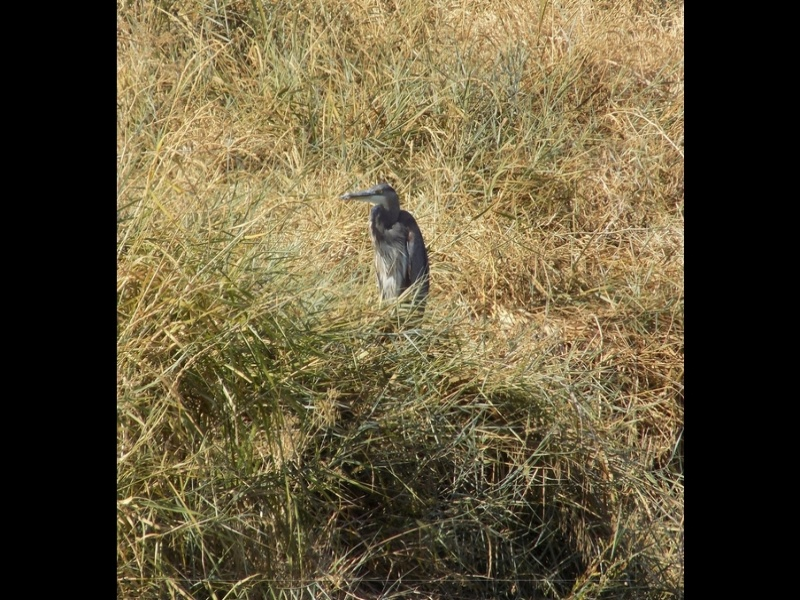heron: (340, 180, 431, 324)
